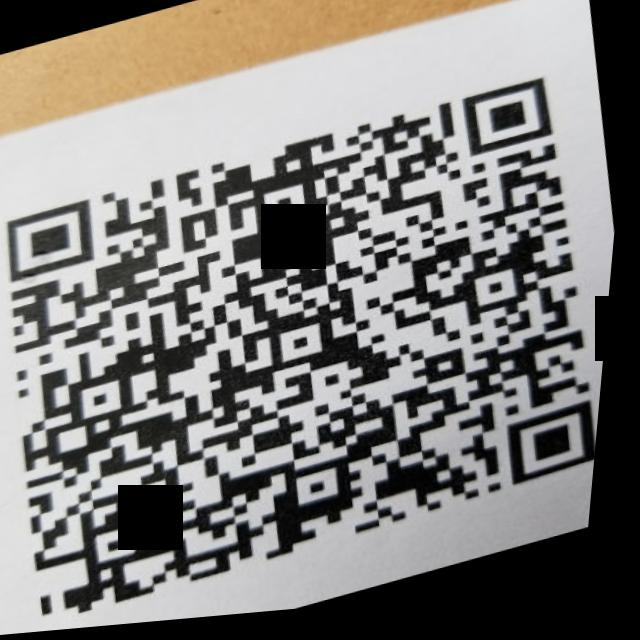QR_CODE: (0, 50, 633, 640)
